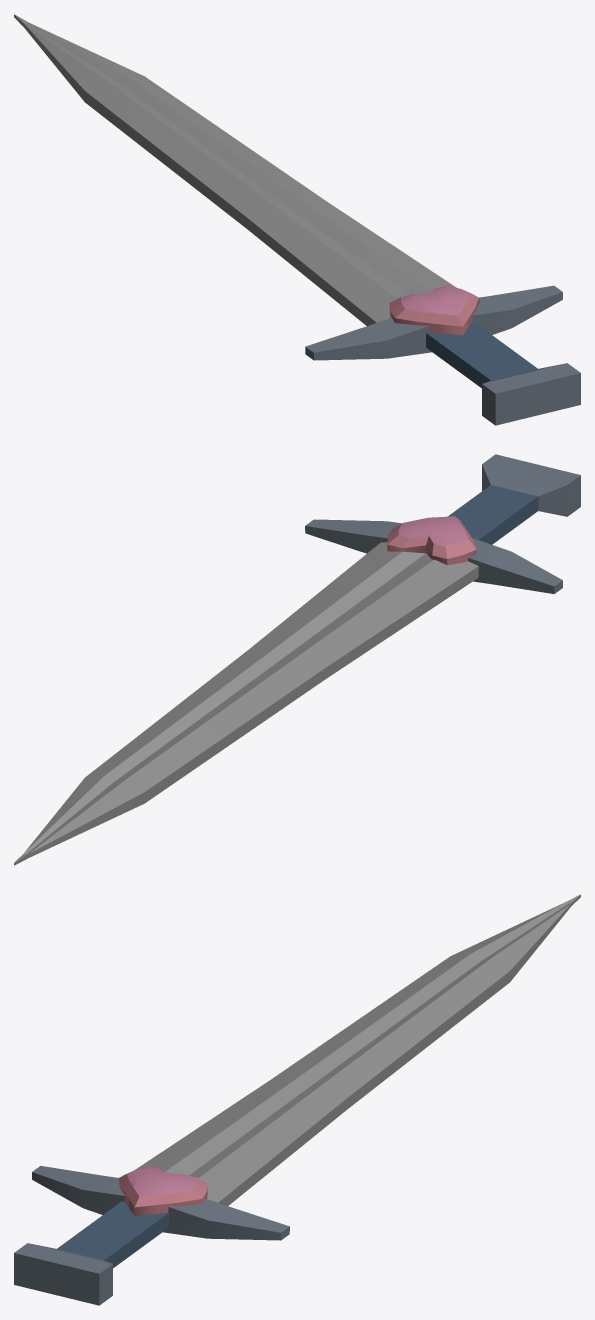
The model's file is sword.glb.
The picture shows the model from 3 angles, top to bottom: view 1: azimuth 30°, elevation 25°; view 2: azimuth 150°, elevation 25°; view 3: azimuth 330°, elevation 25°; orthographic projection.
Visible parts, largest first — view 1: pCube1, pCube3, pCube2, pCube4; view 2: pCube1, pCube3, pCube2, pCube4; view 3: pCube1, pCube3, pCube2, pCube4.
Part boxes in pixels (x1=…): pCube1: x1=14, y1=14, x2=455, y2=325; pCube3: x1=426, y1=321, x2=580, y2=425; pCube2: x1=305, y1=285, x2=562, y2=360; pCube4: x1=389, y1=285, x2=479, y2=335; pCube1: x1=14, y1=542, x2=478, y2=865; pCube3: x1=448, y1=454, x2=580, y2=544; pCube2: x1=305, y1=519, x2=562, y2=594; pCube4: x1=387, y1=516, x2=476, y2=565; pCube1: x1=134, y1=894, x2=580, y2=1205; pCube3: x1=14, y1=1201, x2=168, y2=1305; pCube2: x1=32, y1=1165, x2=289, y2=1240; pCube4: x1=118, y1=1166, x2=207, y2=1215.
Size of the model in its own units: 0.6241 by 0.1042 by 2.27.
